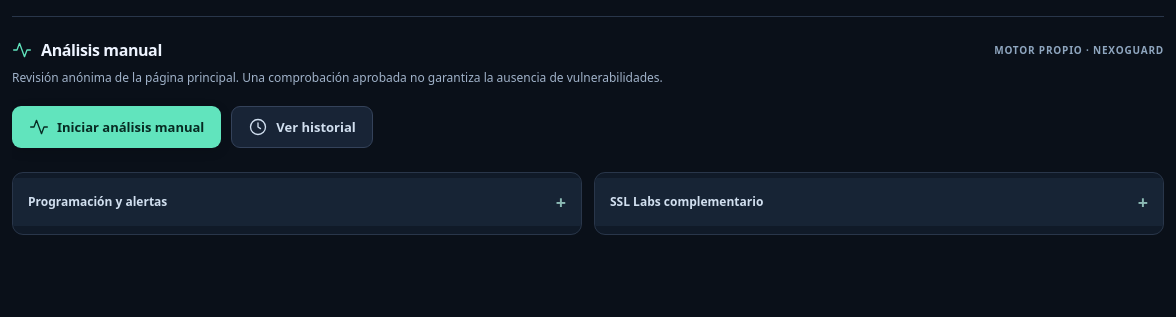
Test: maneja HTTP 403
The width and height of the screenshot is (1176, 317).
Click the button "Iniciar análisis manual".
click(117, 127)  # box [12,106,221,148]
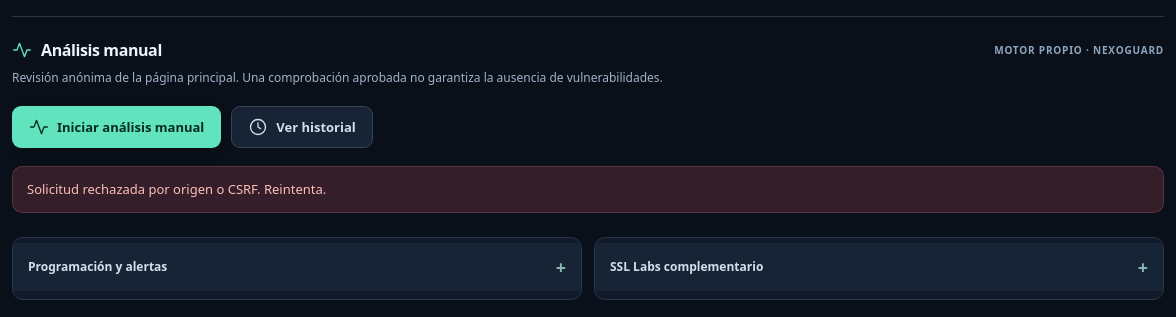
Result: the message shows "CSRF" at [27,180,326,198]
